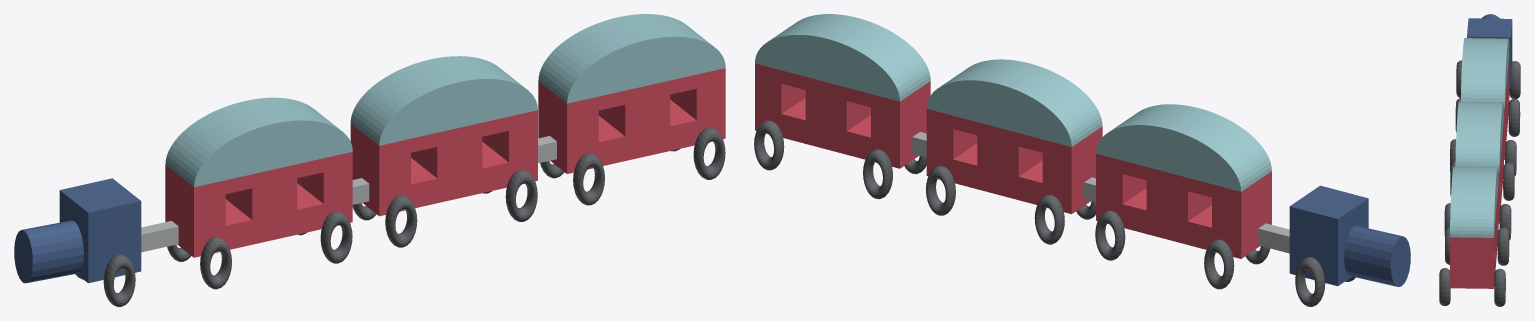
The model's file is Project_150.glb.
The picture shows the model from 3 angles, left to right: view 1: azimuth 30°, elevation 25°; view 2: azimuth 150°, elevation 25°; view 3: azimuth 270°, elevation 25°; orthographic projection. The views are drawn at different scales.
Parts seen in each view (by area): view 1: Mesh_Mesh_head_geo.001_lambert2SG.001; view 2: Mesh_Mesh_head_geo.001_lambert2SG.001; view 3: Mesh_Mesh_head_geo.001_lambert2SG.001.
Part boxes in pixels (bbox=[...]): Mesh_Mesh_head_geo.001_lambert2SG.001: bbox=[14, 14, 725, 306]; Mesh_Mesh_head_geo.001_lambert2SG.001: bbox=[754, 14, 1410, 306]; Mesh_Mesh_head_geo.001_lambert2SG.001: bbox=[1439, 14, 1520, 306].
Size of the model in its own units: 201 by 42.5 by 29.05.
